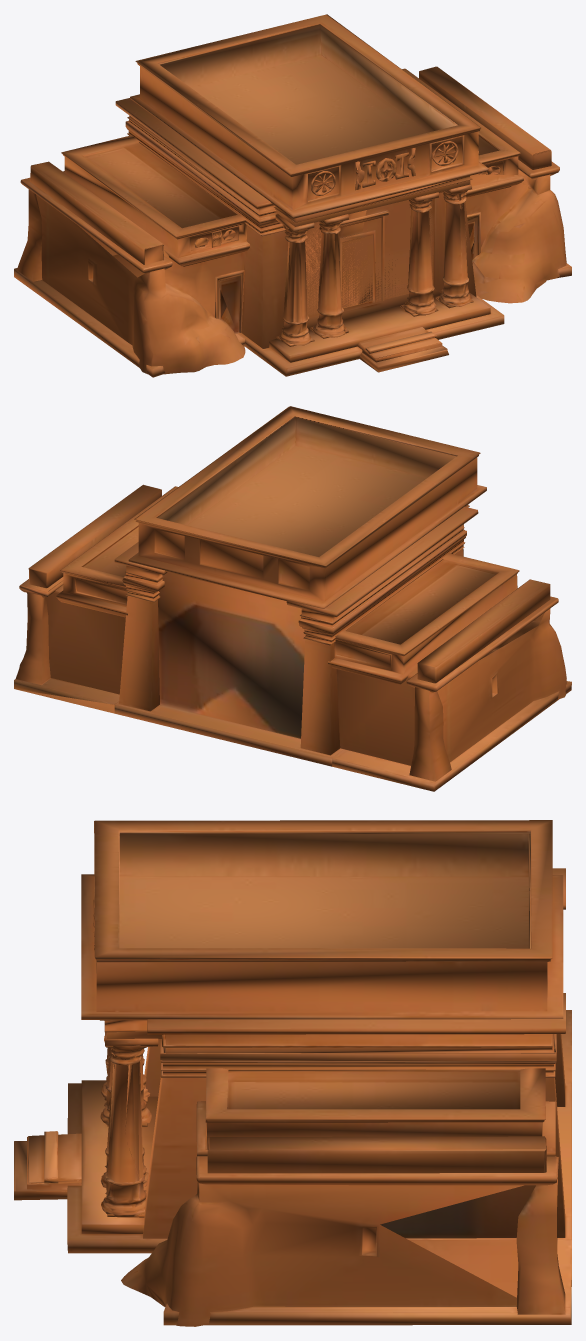
The picture shows the model from 3 angles, top to bottom: view 1: azimuth 30°, elevation 25°; view 2: azimuth 150°, elevation 25°; view 3: azimuth 270°, elevation 25°; orthographic projection. The views are drawn at different scales.
Size of the model in its own units: 0.959 by 0.4204 by 0.7417.
1 material, 1 textured.
